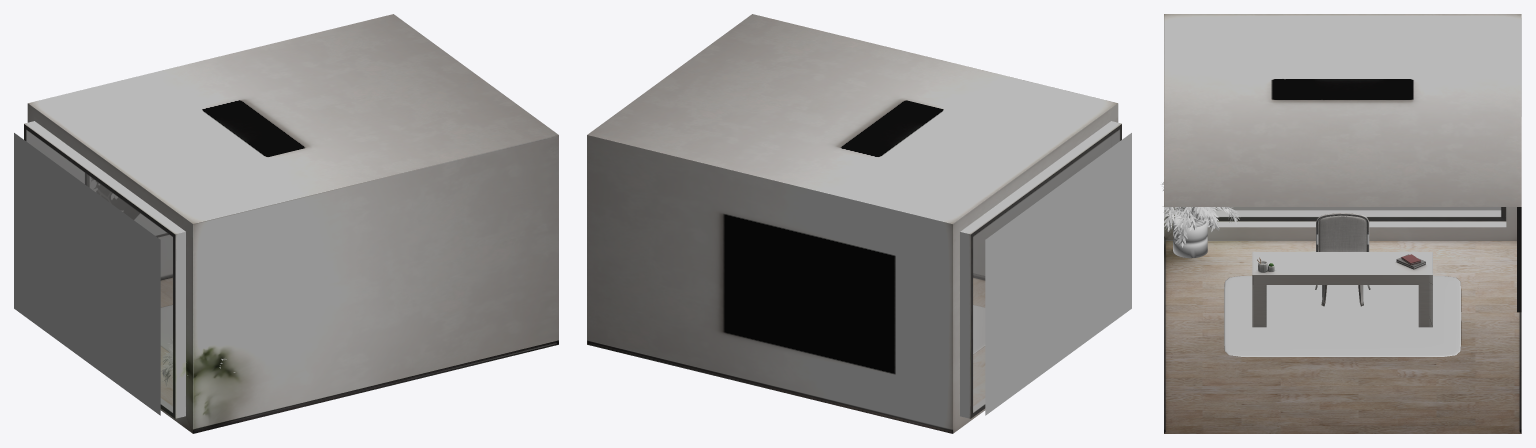
Rendered from fixed fbs.fbx.
3 views of the same model, side by side, from view 1: azimuth 30°, elevation 25°; view 2: azimuth 150°, elevation 25°; view 3: azimuth 270°, elevation 25° (orthographic). The views are drawn at different scales.
Parts seen in each view (by area): view 1: Window; view 2: Window; view 3: Window.
Boxes of the visible parts, x1,y1,x2,y2 form: Window: (14,14,558,433); Window: (587,14,1131,433); Window: (1161,14,1521,433).
Size of the model in its own units: 14.54 by 10.08 by 19.56.
